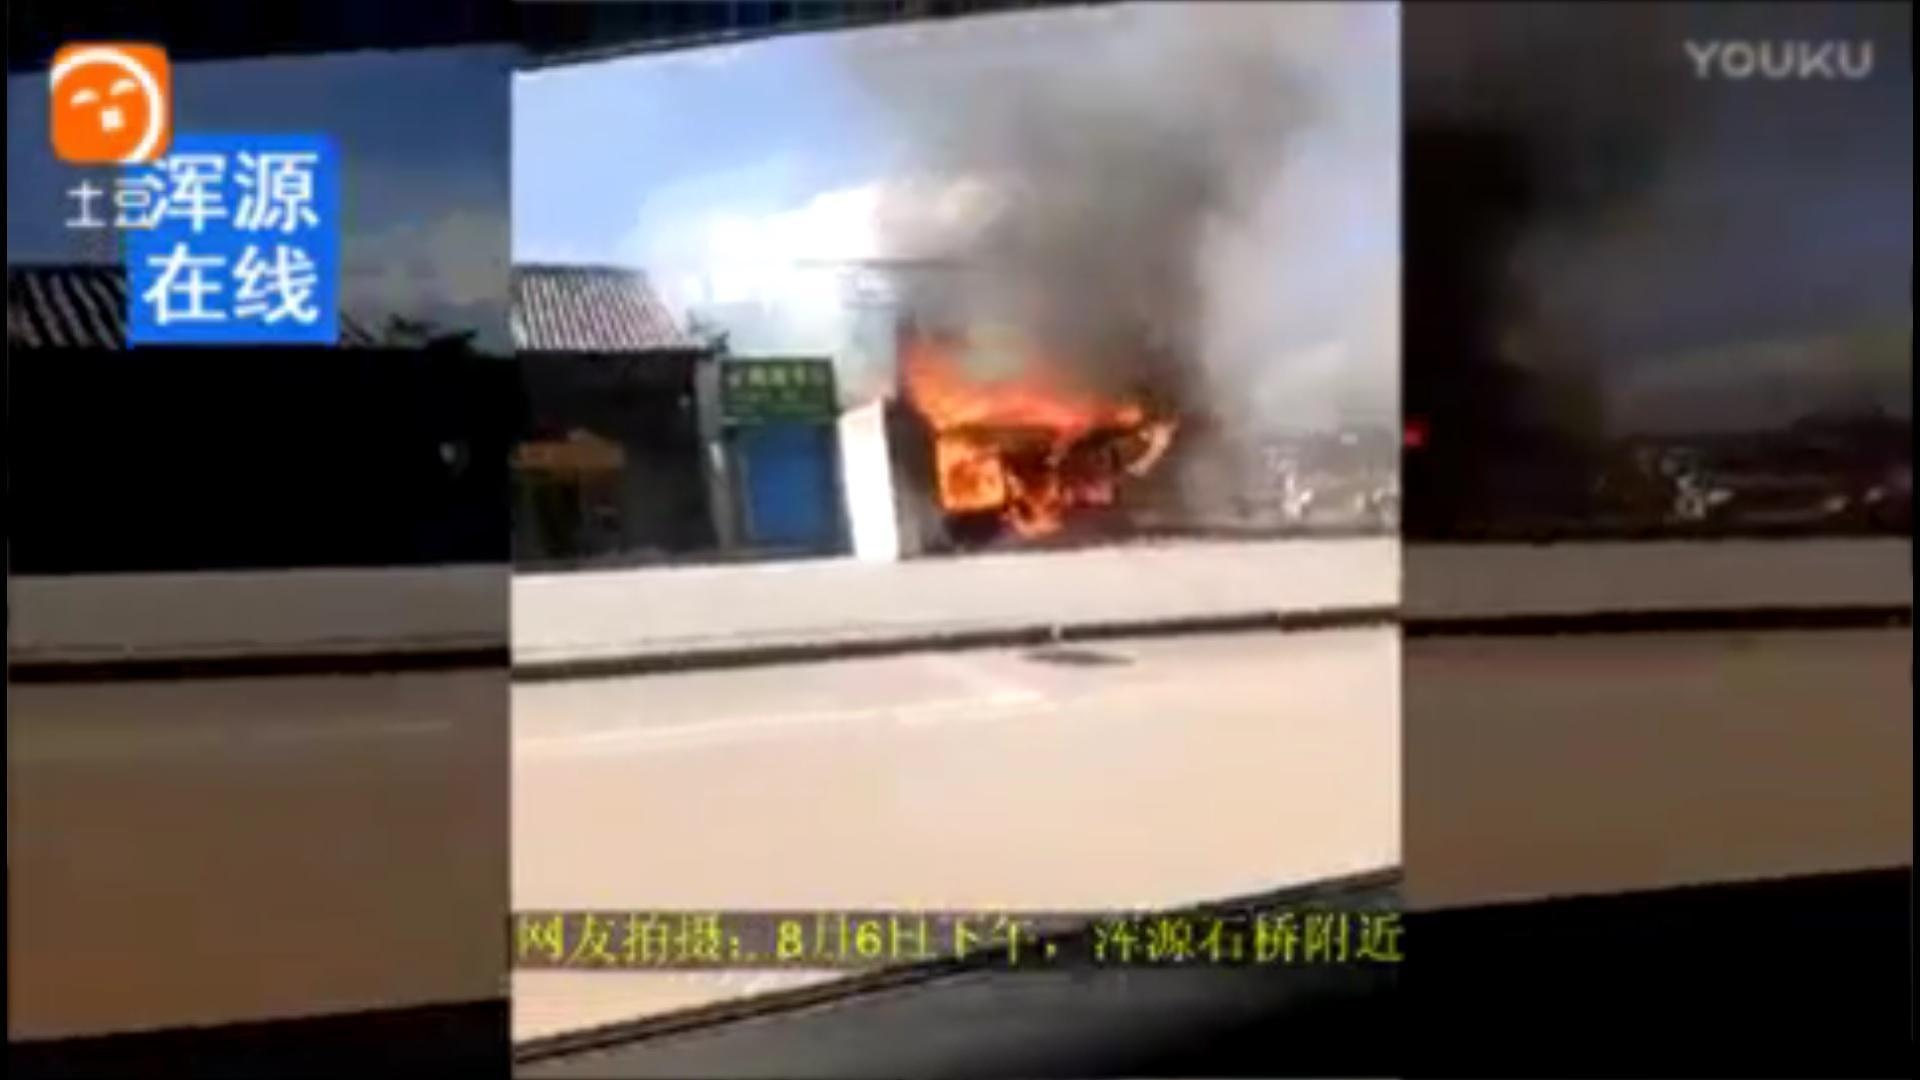fire: (891, 331, 1180, 543)
